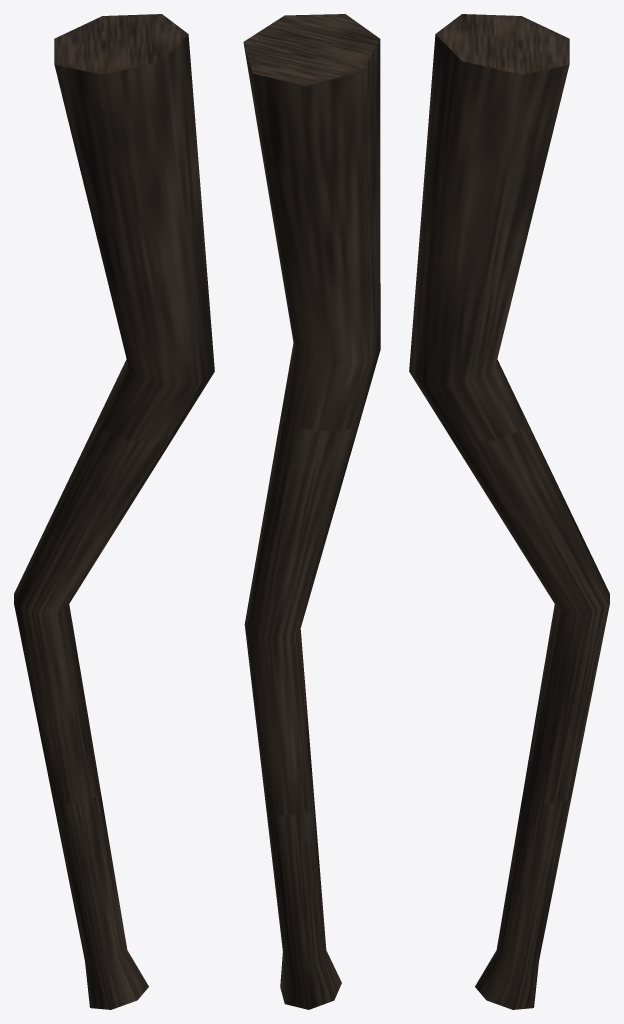
Rendered from deer_leg.glb.
3 renders of one model, left to right at view 1: azimuth 90°, elevation 25°; view 2: azimuth 150°, elevation 25°; view 3: azimuth 270°, elevation 25°, orthographic.
Parts seen in each view (by area): view 1: deer_leg; view 2: deer_leg; view 3: deer_leg.
Part boxes in pixels (x1,y1,x2,y2): deer_leg: (14,14,214,1009); deer_leg: (243,14,380,1009); deer_leg: (409,14,609,1009).
Size of the model in its own units: 0.2145 by 1.65 by 0.3098.
1 material, 1 textured.
